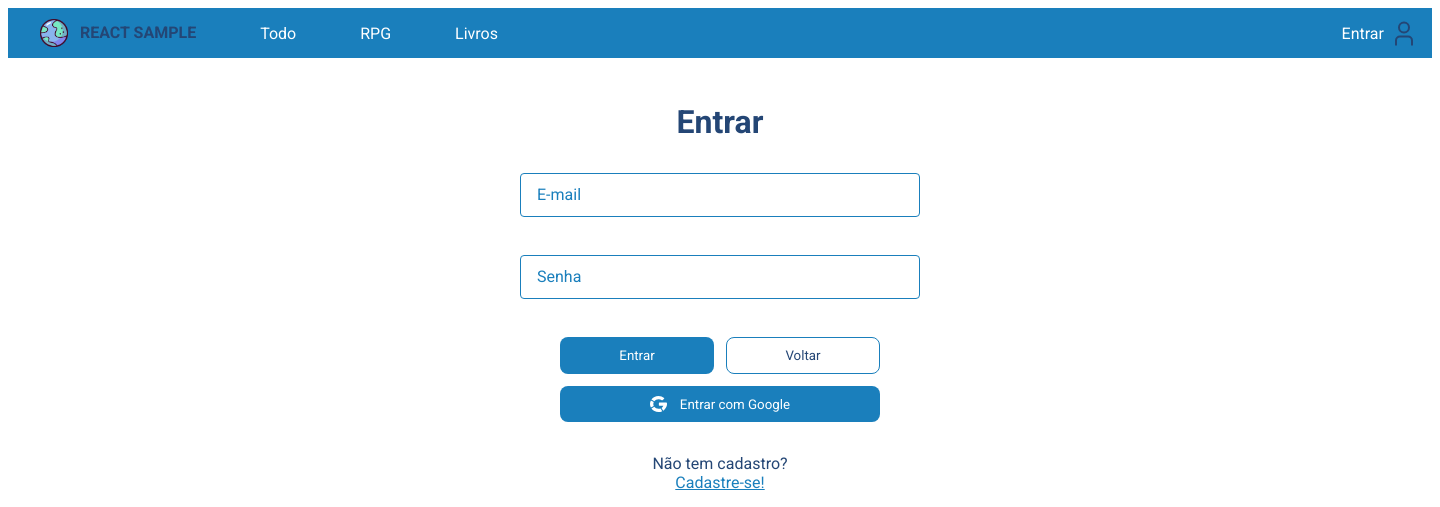
Scenario: LoginPage › deve exibir mensagens de erro ao tentar logar com campos iniciais
The image size is (1440, 507).
Click the button titled "Entrar".
click(637, 355)  # box [560,337,714,374]
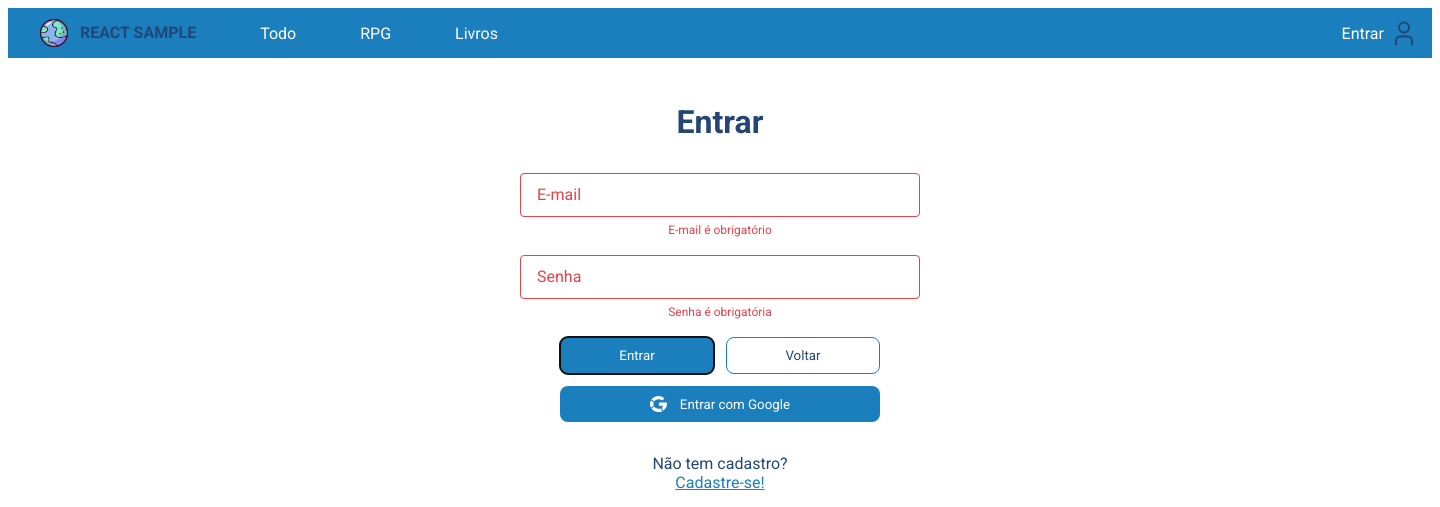
Expected: the text "E-mail é obrigatório" is shown, [668,223,772,237]
Expected: the text "Senha é obrigatória" is shown, [668,305,772,319]
